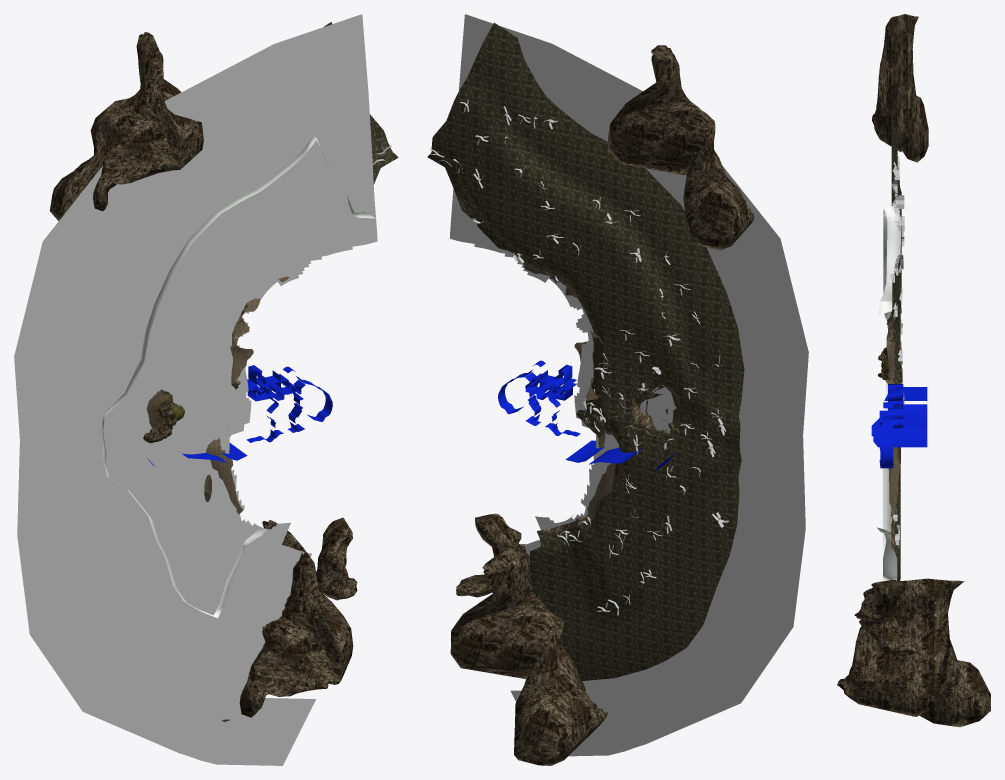
3 views of the same model, side by side, from view 1: azimuth 30°, elevation 25°; view 2: azimuth 150°, elevation 25°; view 3: azimuth 270°, elevation 25° (orthographic). The views are drawn at different scales.
Visible parts, largest first — view 1: 3DSMesh_2, 3DSMesh_3, 3DSMesh_1, 3DSMesh_17, 3DSMesh_6, 3DSMesh_0; view 2: 3DSMesh_0, 3DSMesh_2, 3DSMesh_3, 3DSMesh_17, 3DSMesh_4, 3DSMesh_6, 3DSMesh_5; view 3: 3DSMesh_3, 3DSMesh_17, 3DSMesh_1, 3DSMesh_0, 3DSMesh_4, 3DSMesh_6, 3DSMesh_5.
Boxes of the visible parts, box(x1,y1,x2,y2) form: 3DSMesh_2: box(14, 14, 377, 765); 3DSMesh_3: box(49, 32, 357, 721); 3DSMesh_1: box(102, 136, 376, 618); 3DSMesh_17: box(147, 365, 332, 466); 3DSMesh_6: box(204, 276, 289, 514); 3DSMesh_0: box(160, 22, 398, 501); 3DSMesh_0: box(427, 22, 744, 680); 3DSMesh_2: box(449, 14, 808, 756); 3DSMesh_3: box(450, 45, 754, 765); 3DSMesh_17: box(498, 360, 675, 473); 3DSMesh_4: box(429, 99, 729, 615); 3DSMesh_6: box(523, 260, 616, 521); 3DSMesh_5: box(537, 283, 667, 533); 3DSMesh_3: box(837, 14, 990, 727); 3DSMesh_17: box(871, 384, 927, 468); 3DSMesh_1: box(877, 206, 900, 580); 3DSMesh_0: box(891, 113, 902, 581); 3DSMesh_4: box(890, 156, 904, 580); 3DSMesh_6: box(886, 311, 902, 514); 3DSMesh_5: box(885, 319, 896, 553).
Bounding box in the file's own units: 91151 × 170609 × 34143.
